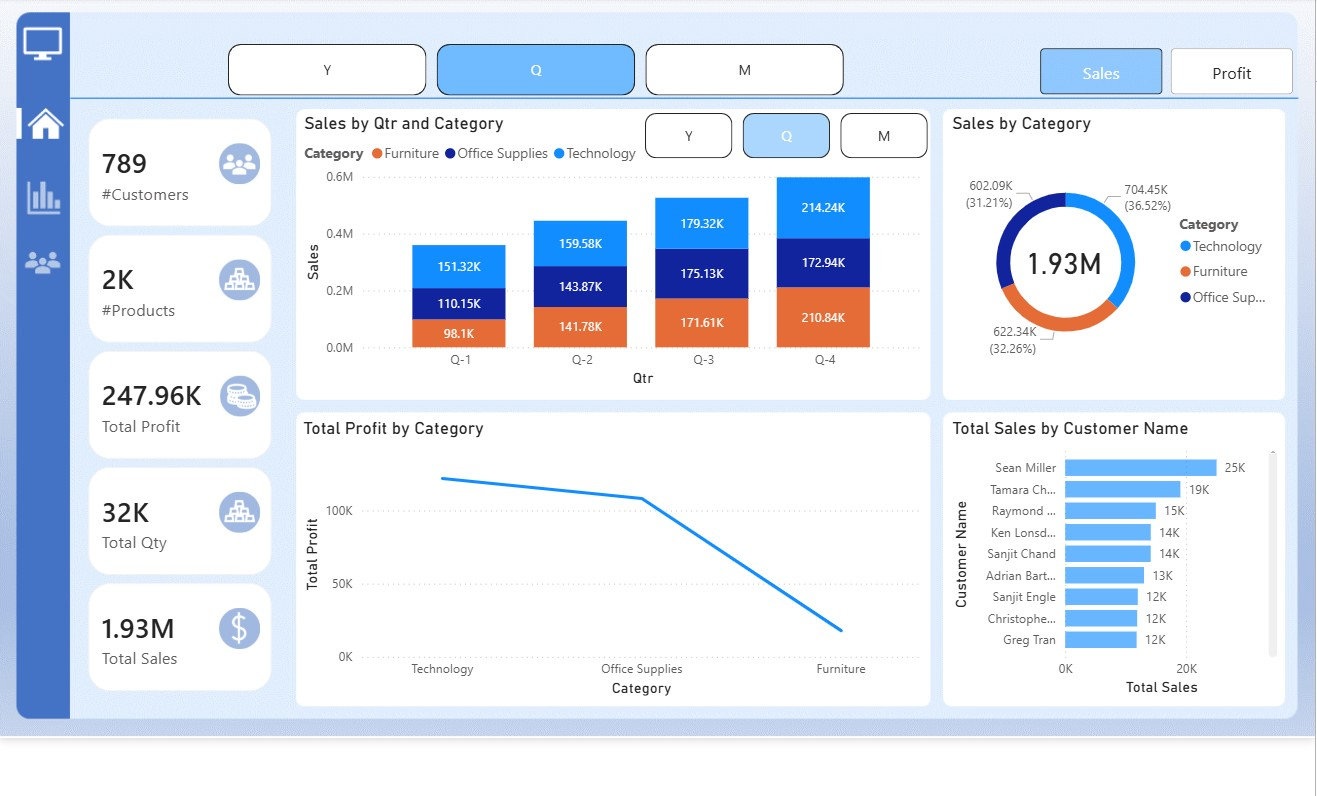

The page's visual inventory and layout, read from the dashboard file:
{"tool":"powerbi","page":{"name":"Page 1","canvas":[1280,720],"ordinal":0},"visuals":[{"type":"cardVisual","fields":{"Data":["Measuress.#Customers","Measuress.#Products","Measuress.Total Profit","Measuress.Total Qty","Measuress.Total Sales"]},"box":[70.2,99.9,212.9,594.8],"z":0},{"type":"columnChart","fields":{"Y":["Measuress.Total Profit"],"Series":["Dim Product.Category"],"Category":["DimDate.Year Hierarchy.Year","DimDate.Year Hierarchy.Qtr","DimDate.Year Hierarchy.Month"]},"box":[291.4,111.8,611.4,271.2],"z":1000},{"type":"advancedSlicerVisual","fields":{"Values":["Parameter.Parameter"]},"box":[1007.6,44,257,55.9],"z":2000},{"type":"donutChart","fields":{"Y":["Measuress.Total Profit"],"Category":["Dim Product.Category"]},"box":[921.9,111.8,325.9,271.2],"z":3000},{"type":"card","fields":{"Values":["Measuress.Total Profit"]},"box":[955.2,205.8,160.6,101.1],"z":4000},{"type":"clusteredBarChart","fields":{"Y":["Measuress.Total Sales"],"Category":["Dim Customer.Customer Name"]},"box":[921.9,408,325.9,274.8],"z":5000},{"type":"bookmarkNavigator","box":[627.8,111.6,276,44.3],"z":6000},{"type":"bookmarkNavigator","box":[223.1,44.3,600.7,50.1],"z":7000},{"type":"lineChart","fields":{"Category":["Dim Product.Category"],"Y":["Measuress.Total Profit"]},"box":[290.8,408.5,610.8,275.3],"z":7001}]}

Visuals, with their boxes in screenshot pixels (x1, y1, x2, y2):
cardVisual - Measuress.#Customers x Measuress.#Products: x1=64, y1=102, x2=288, y2=727
columnChart - Measuress.Total Profit x Dim Product.Category: x1=296, y1=114, x2=939, y2=399
advancedSlicerVisual - Parameter.Parameter: x1=1050, y1=43, x2=1316, y2=102
donutChart - Measuress.Total Profit x Dim Product.Category: x1=960, y1=114, x2=1302, y2=399
card - Measuress.Total Profit: x1=995, y1=213, x2=1164, y2=319
clusteredBarChart - Measuress.Total Sales x Dim Customer.Customer Name: x1=960, y1=426, x2=1302, y2=715
bookmarkNavigator: x1=650, y1=114, x2=940, y2=161
bookmarkNavigator: x1=224, y1=43, x2=856, y2=96
lineChart - Dim Product.Category x Measuress.Total Profit: x1=296, y1=426, x2=938, y2=716
